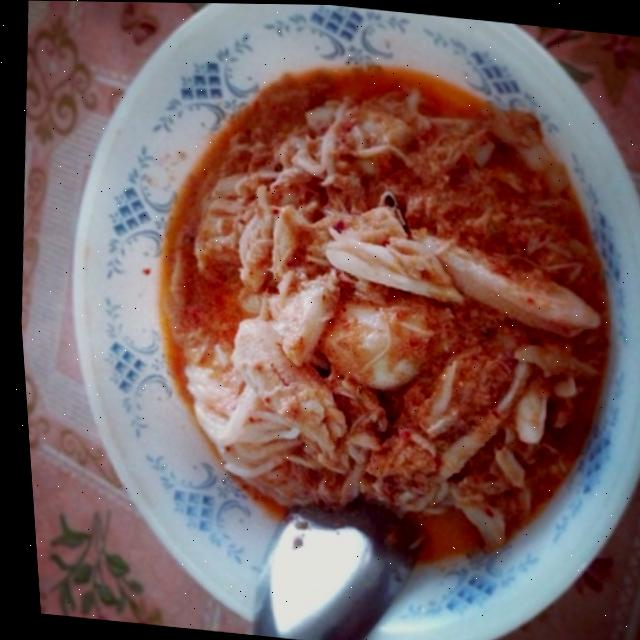面条主食: (31, 0, 640, 640)
